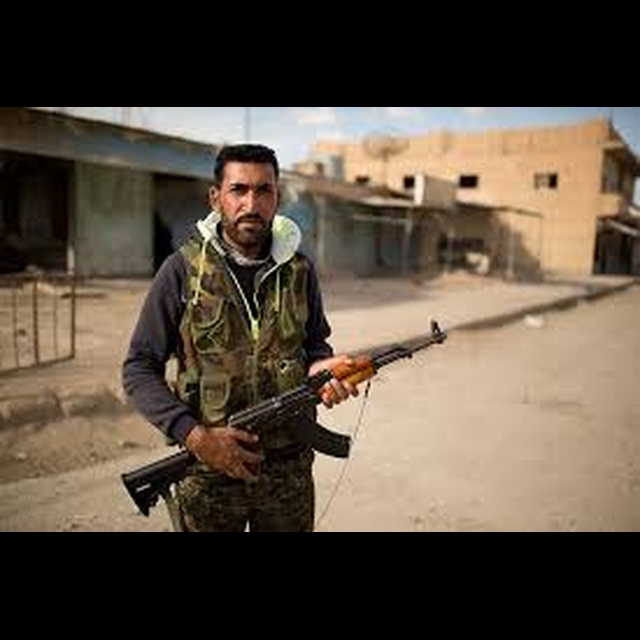AK47: (198, 318, 448, 492)
